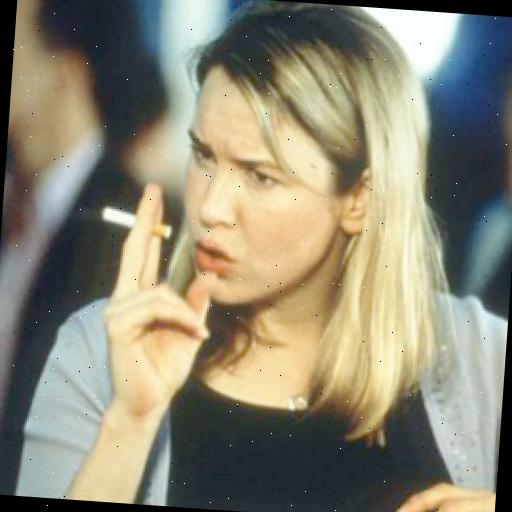terdeteksi pegang rokok: (67, 142, 199, 314)
